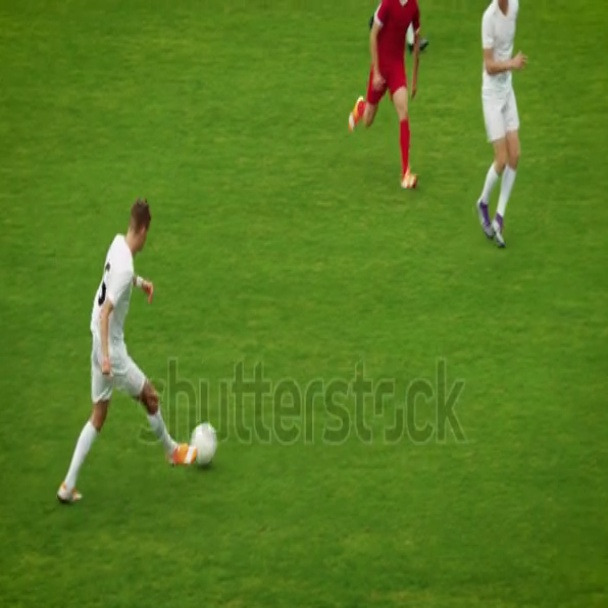ball: (187, 419, 218, 467)
